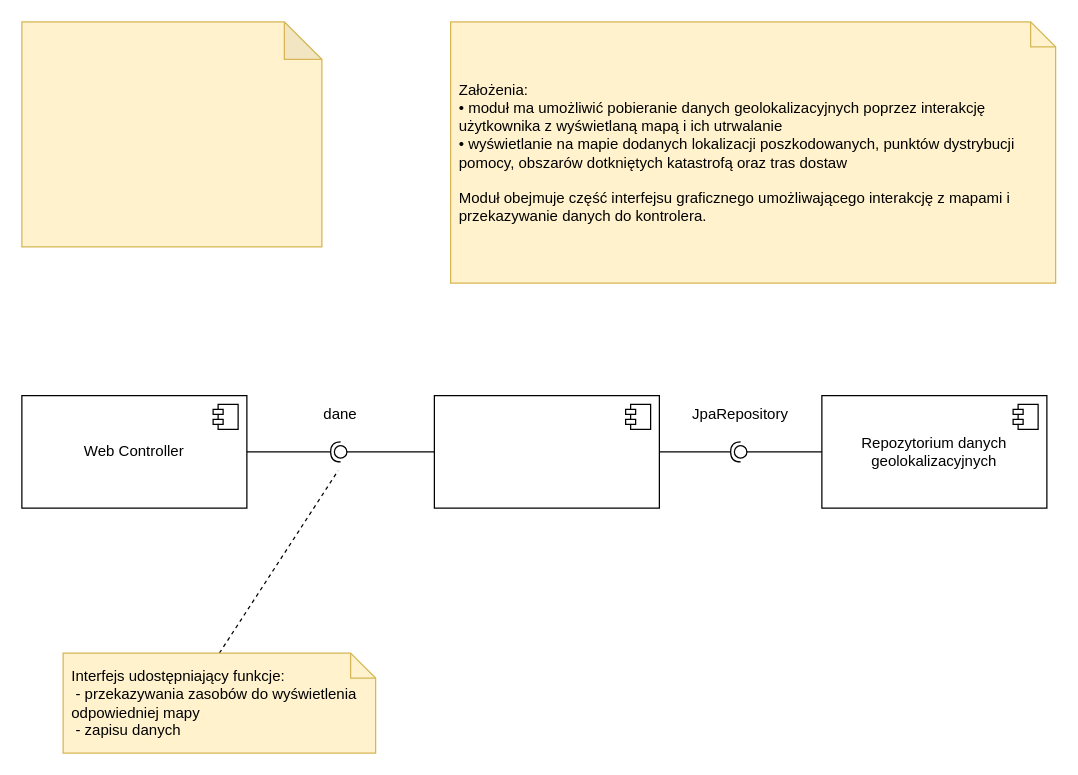
The diagram is 1078 pixels wide and 775 high, and some of its shapes have lost their labels. Here are the shapes that lost their labels. From the top down, the box of each, then its label:
(21, 21, 322, 247): Projektanci: • Natalia Nosowicz • Nikola Maciejewska
(433, 394, 659, 508): Mapy
